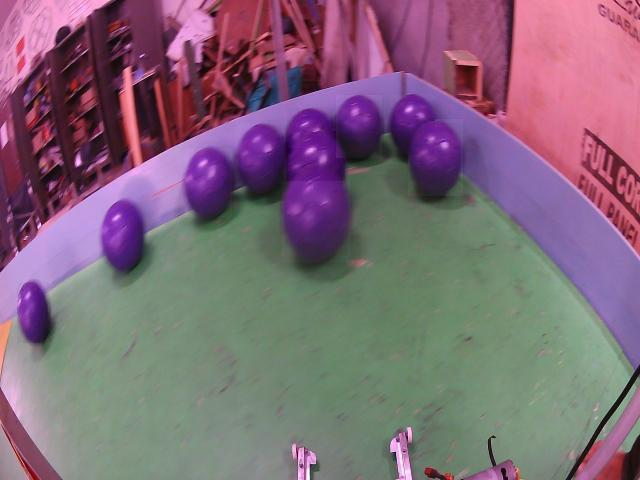jambhalya: (283, 168, 350, 262), (408, 120, 463, 196), (236, 124, 285, 193), (185, 149, 232, 218), (101, 200, 144, 270), (286, 131, 345, 181), (337, 95, 382, 158), (390, 95, 435, 155), (17, 282, 49, 343), (287, 109, 333, 148)
